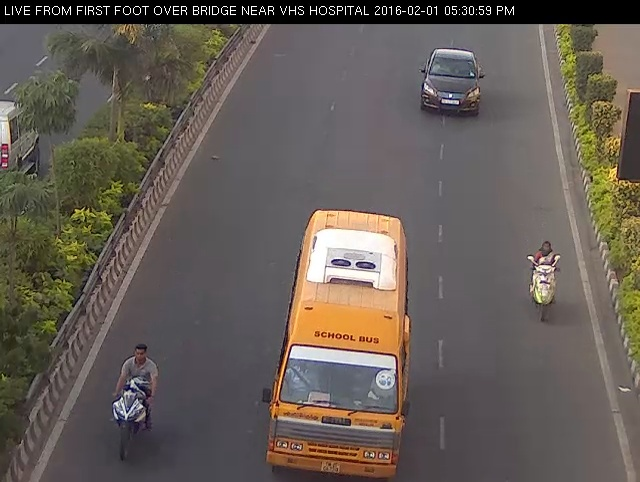Bus: (257, 201, 416, 481)
Car: (412, 33, 492, 124)
Person: (94, 339, 167, 466), (522, 231, 568, 333)
